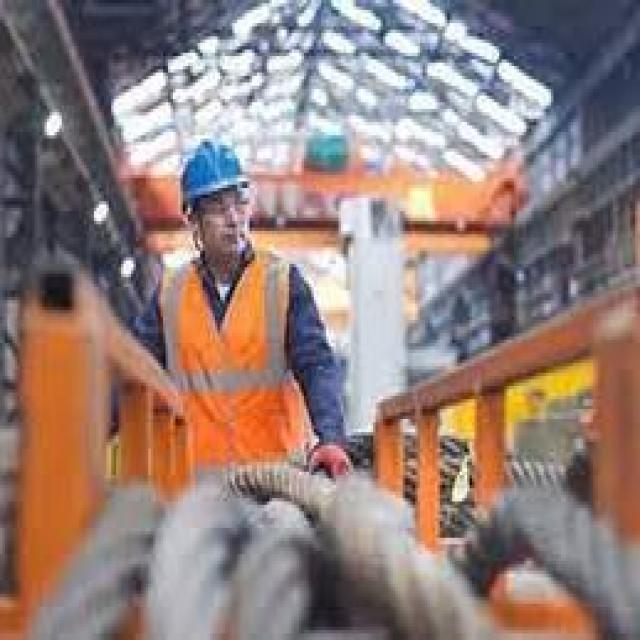reflective_jacket: (151, 250, 314, 495)
safety_helmet: (165, 128, 264, 217)
